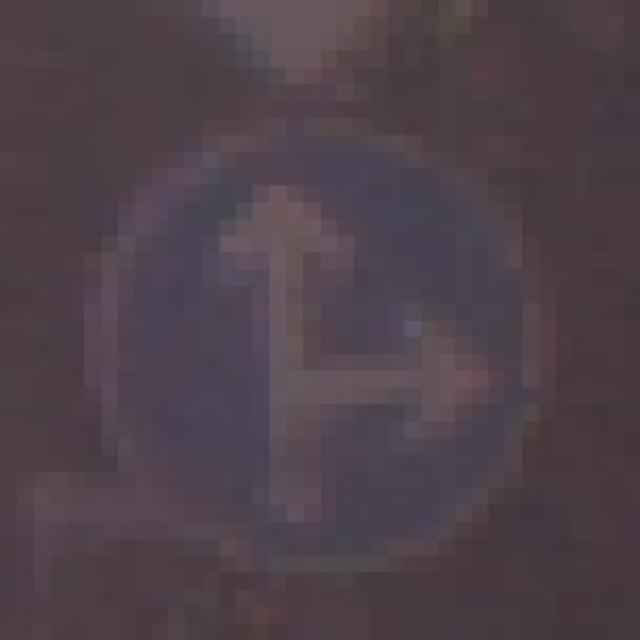Go Straight or Turn Right: (67, 118, 573, 573)
